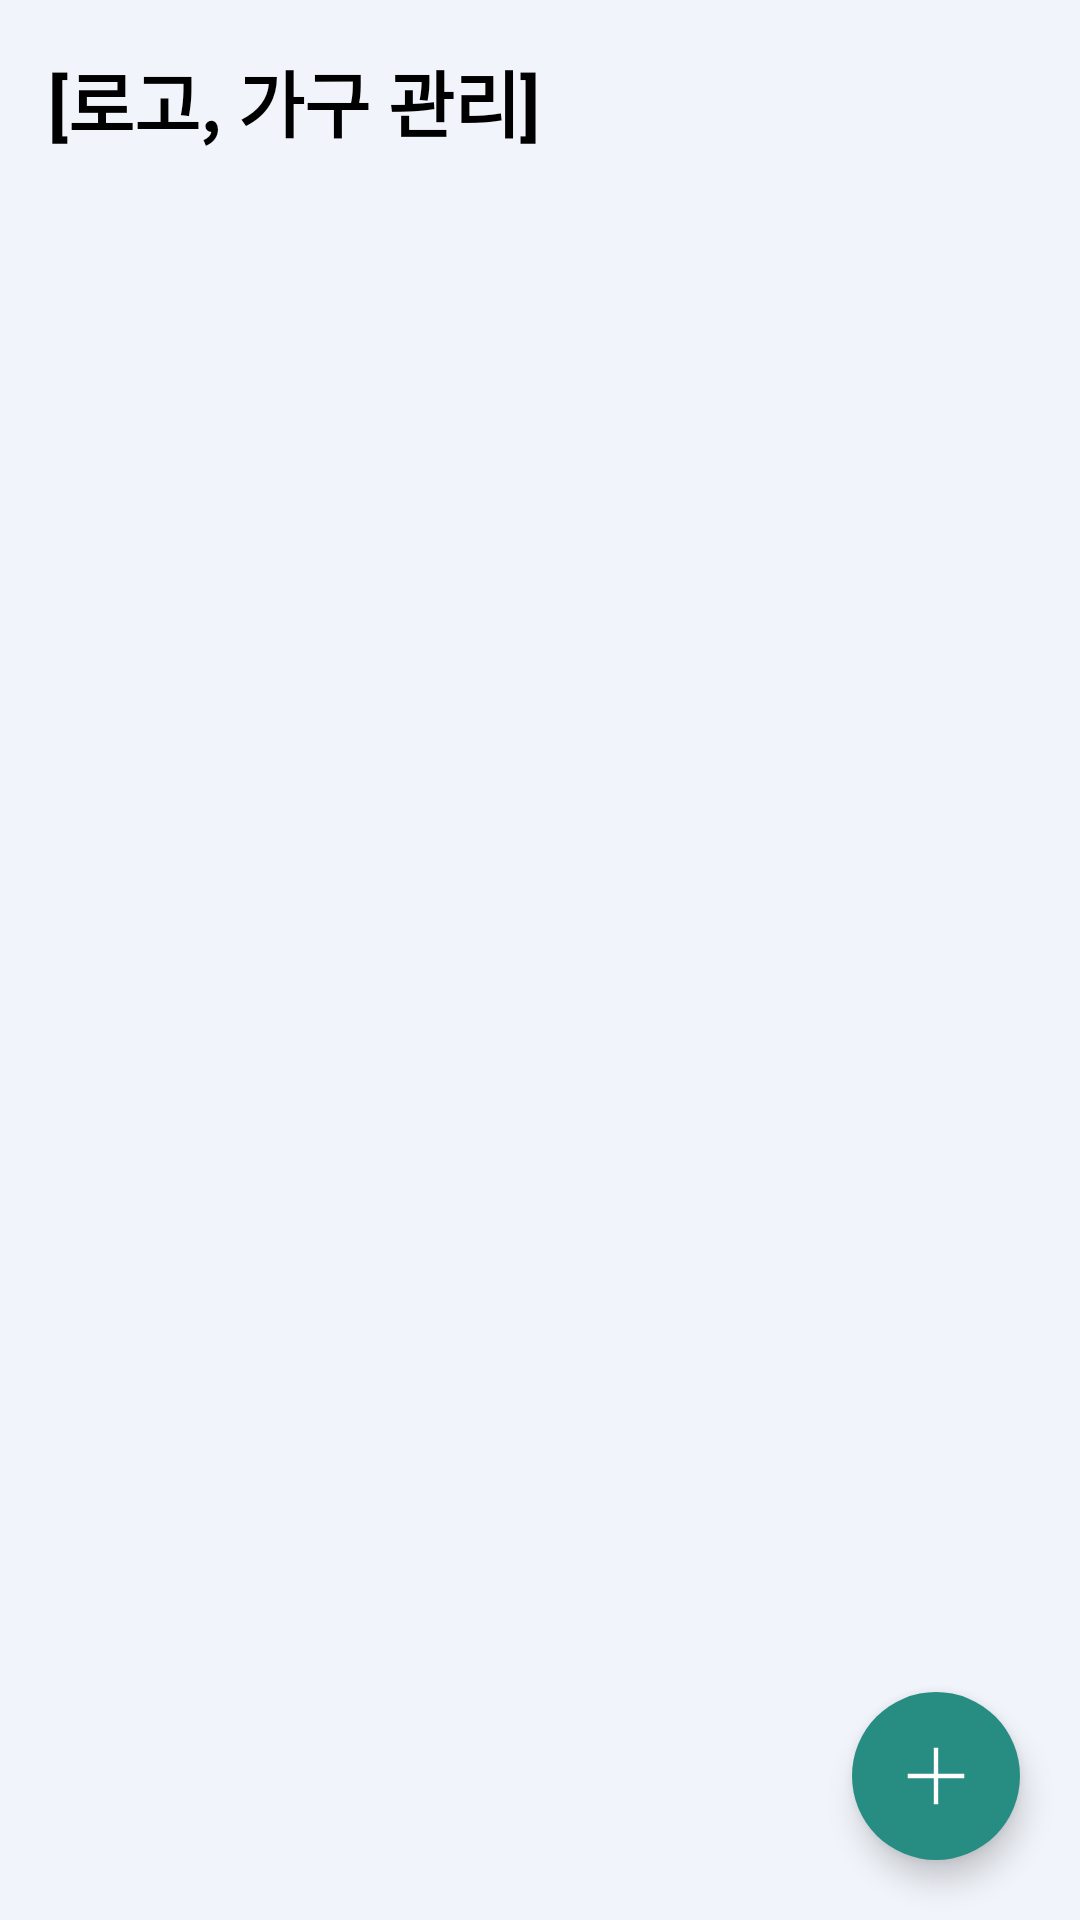

Icons on this 1080px x 1920px Android screen, each with the point to tap as (x,y):
가구 추가: (936,1776)
